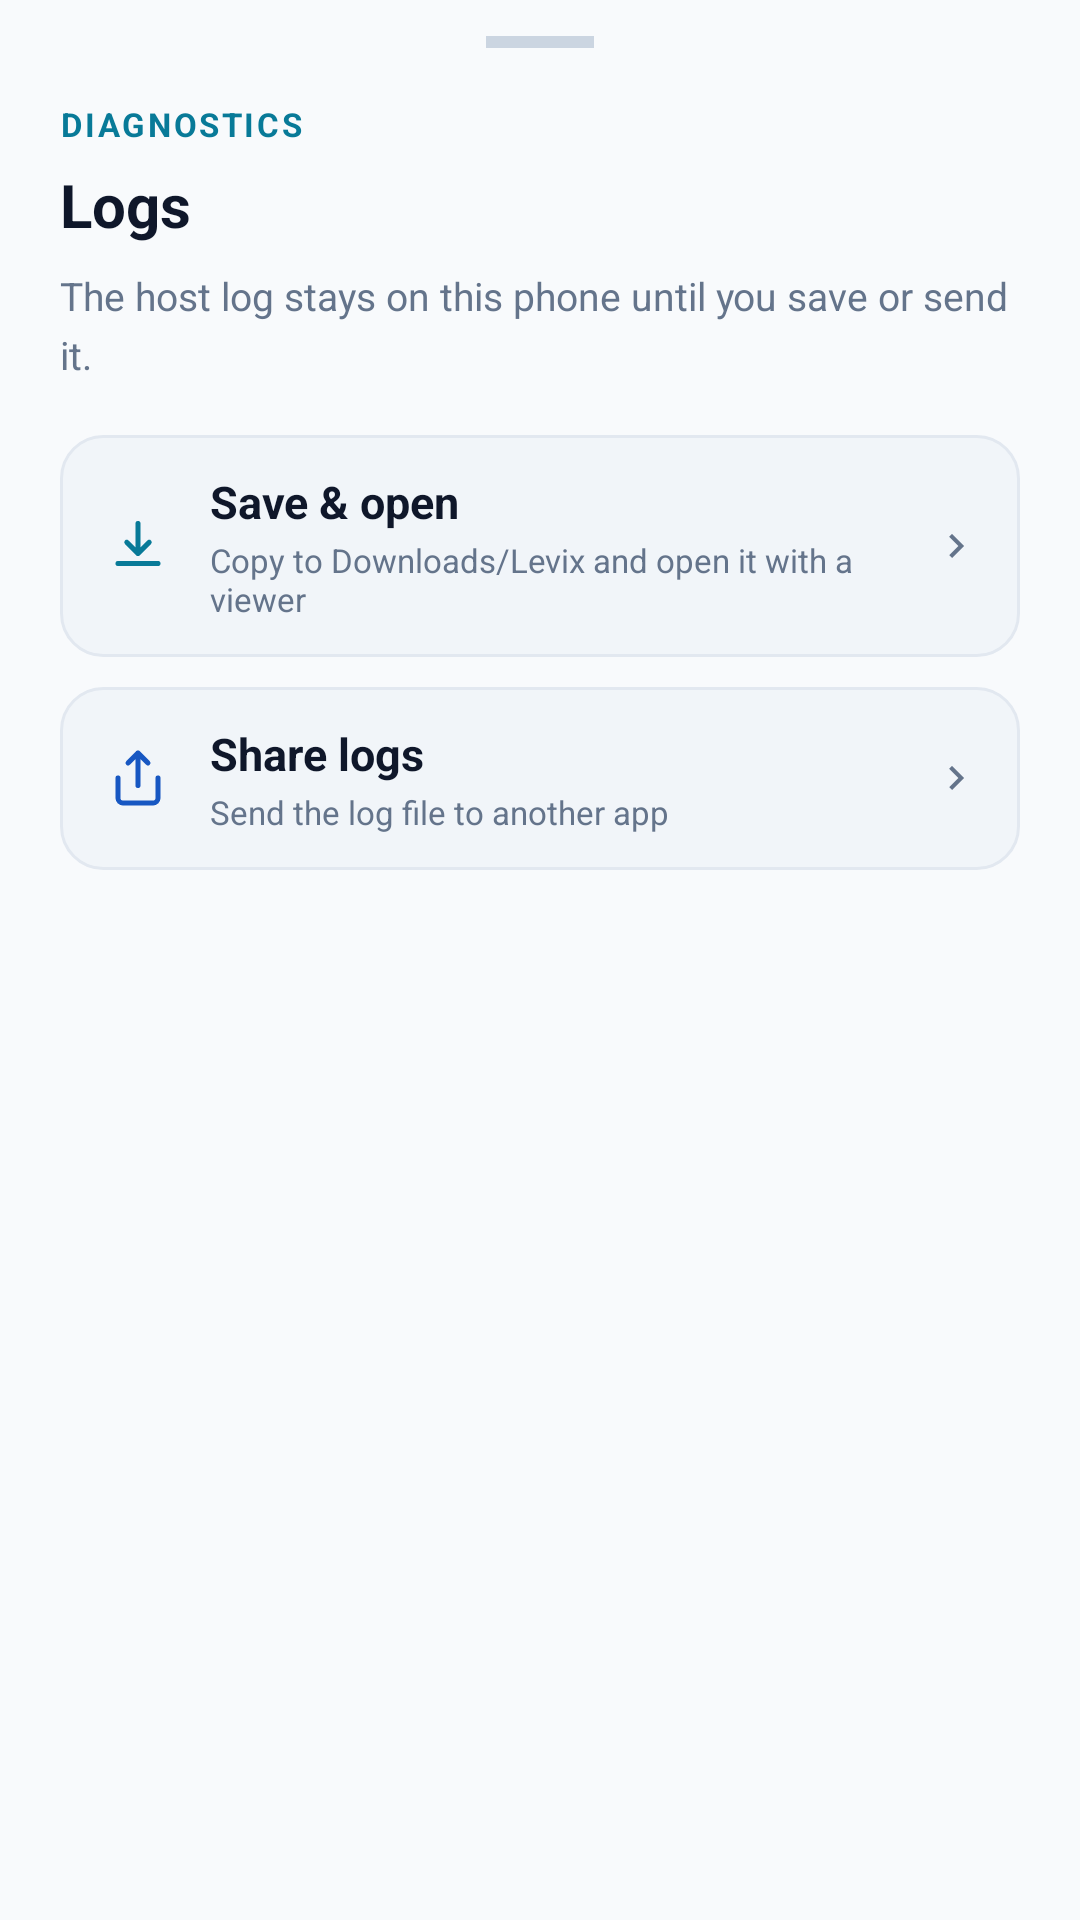

Point at icon controls on the screen. Image size 1080px x 1920px, points as (x,y).
chevron right: (956,546), (956,778)
